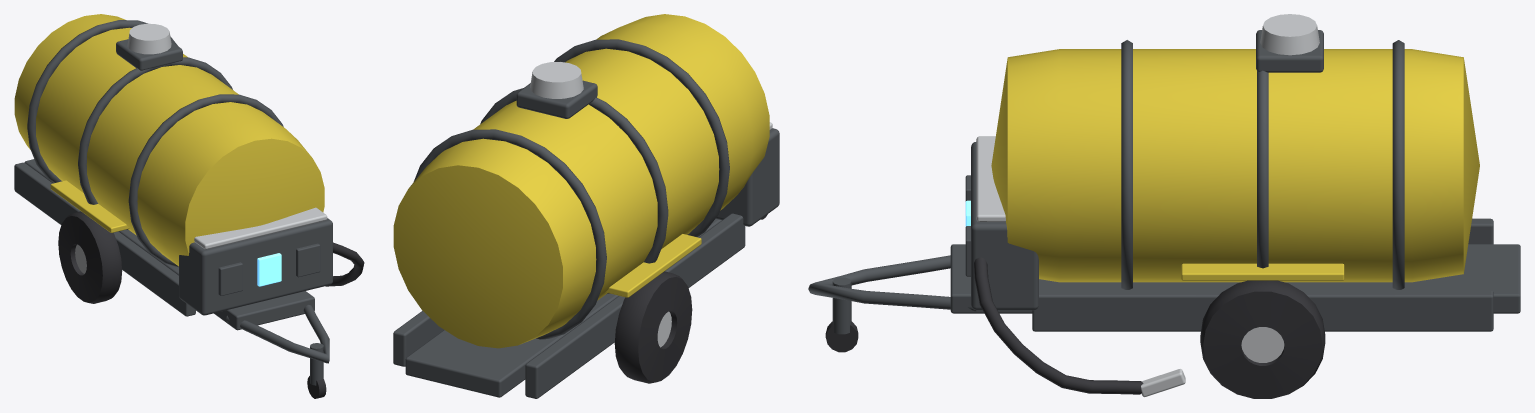
File: battle-royale-town-and-airfield-fuel-bowser-trailer-34d5a8ac__28251.glb
3 renders of one model, left to right at view 1: azimuth 30°, elevation 25°; view 2: azimuth 150°, elevation 25°; view 3: azimuth 270°, elevation 25°, orthographic. The views are drawn at different scales.
Visible parts, largest first — view 1: fuel-bowser-trailer; view 2: fuel-bowser-trailer; view 3: fuel-bowser-trailer.
Part boxes in pixels (box(x1,y1,x2,y2)): fuel-bowser-trailer: box(14, 14, 364, 398); fuel-bowser-trailer: box(393, 14, 779, 398); fuel-bowser-trailer: box(808, 14, 1520, 398).
Bounding box in the file's own units: 2.22 × 2.64 × 5.25.
